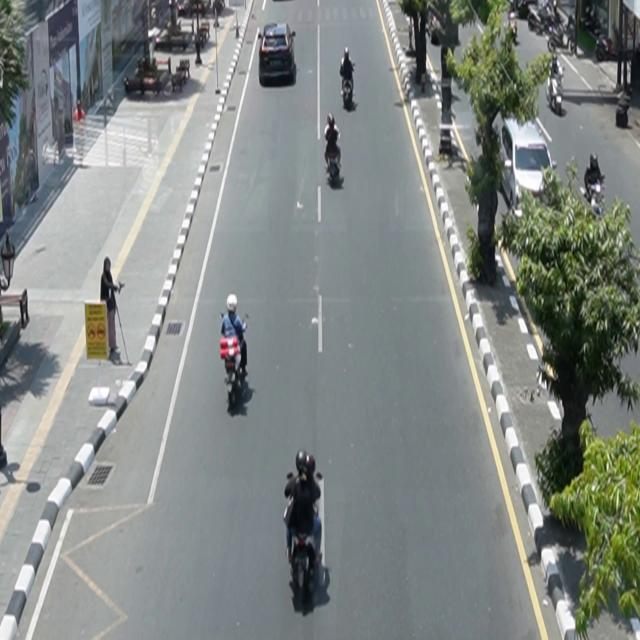car: (492, 107, 559, 218), (260, 22, 298, 87)
